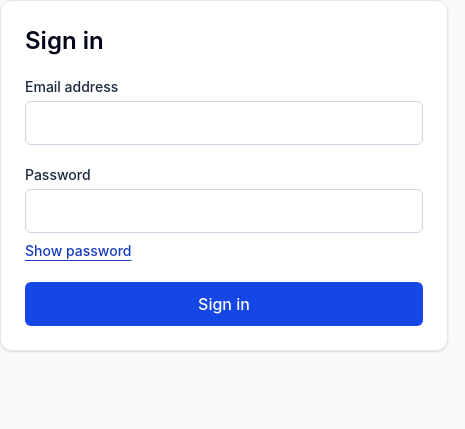
it: LoginForm › toggles password visibility accessibly and reports rejected submission
Click the button "Show password" at (78, 251), box left=25, top=241, right=132, bottom=261
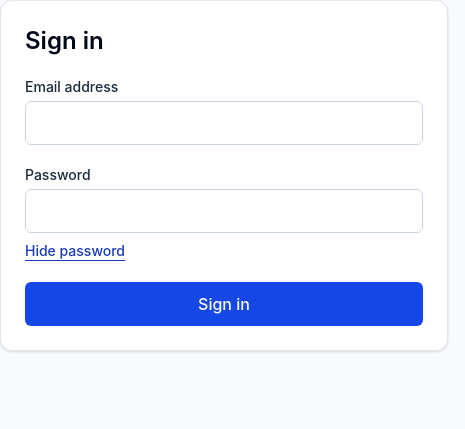
Now the button "Hide password" is pressed, box left=25, top=241, right=125, bottom=261
Type "person@example.com" into the field labelled "Email address" at (224, 123), box left=25, top=101, right=423, bottom=145
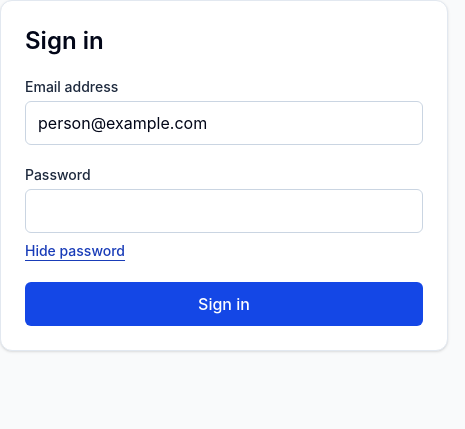
Type "password" into the field labelled "Password" at (224, 211), box left=25, top=189, right=423, bottom=233
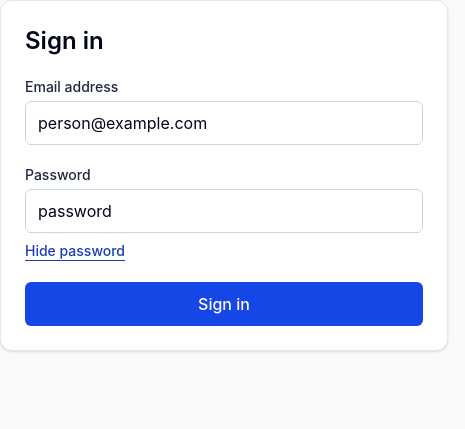
Click the button "Sign in" at (224, 304), box left=25, top=282, right=423, bottom=326
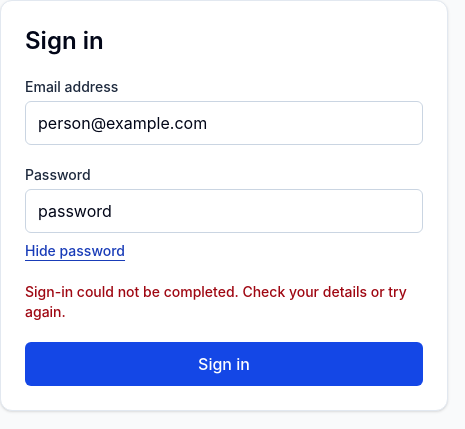
Now the message reads "Sign-in could not be completed. Check your details or try again.", box left=25, top=283, right=407, bottom=320
